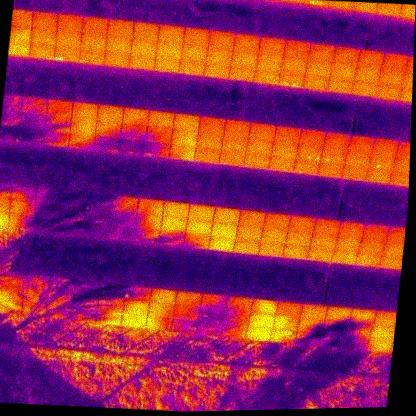Diode: (29, 41, 56, 60), (55, 44, 81, 62)
Hotspot: (368, 151, 396, 171), (179, 57, 206, 76), (375, 82, 403, 100), (348, 135, 375, 153), (278, 71, 305, 89), (205, 60, 232, 78), (293, 159, 320, 176), (296, 146, 323, 163), (272, 141, 299, 158), (79, 48, 106, 65), (341, 165, 368, 181), (321, 149, 348, 165), (271, 328, 298, 344), (376, 3, 403, 16)
Normal: (223, 118, 251, 139), (188, 203, 216, 223), (121, 106, 149, 126), (362, 223, 389, 243), (338, 220, 365, 240), (81, 31, 108, 51), (170, 127, 198, 146), (173, 113, 201, 132), (96, 104, 124, 123), (308, 42, 336, 61), (132, 21, 160, 40), (357, 49, 386, 67), (323, 131, 349, 151), (314, 217, 341, 236), (239, 209, 266, 228), (213, 207, 240, 226), (194, 146, 221, 165), (196, 131, 223, 150), (298, 129, 325, 148), (229, 62, 256, 81), (154, 54, 181, 73), (284, 40, 311, 59), (208, 234, 236, 252), (210, 221, 238, 239), (274, 126, 302, 144), (70, 116, 98, 134), (147, 111, 175, 129), (281, 56, 309, 74), (82, 16, 110, 34), (31, 11, 59, 29), (325, 305, 351, 324), (56, 29, 82, 48), (108, 18, 134, 37), (354, 64, 383, 81), (234, 34, 263, 51), (150, 288, 177, 306), (258, 240, 285, 258), (233, 238, 260, 256), (286, 228, 313, 246), (264, 212, 291, 230), (244, 151, 271, 169), (219, 148, 246, 166), (169, 143, 196, 161), (249, 123, 276, 141), (304, 73, 331, 91), (254, 65, 281, 83), (104, 50, 131, 68), (209, 30, 236, 48), (183, 27, 210, 45), (158, 24, 185, 42), (57, 14, 84, 32), (185, 219, 213, 236), (345, 150, 373, 167), (199, 116, 227, 133), (71, 102, 99, 119), (378, 67, 406, 84), (329, 61, 357, 78), (305, 59, 333, 76), (206, 46, 234, 63), (381, 53, 409, 70), (156, 40, 184, 57), (30, 27, 58, 44), (259, 36, 287, 53), (249, 311, 275, 329), (283, 243, 309, 261), (130, 51, 156, 69), (121, 312, 148, 329), (274, 314, 301, 331), (301, 303, 328, 320), (275, 301, 302, 318), (251, 299, 278, 316), (307, 245, 334, 262), (236, 224, 263, 241), (288, 215, 315, 232), (162, 201, 189, 218), (365, 168, 392, 185), (269, 155, 296, 172), (221, 135, 248, 152), (352, 79, 379, 96), (327, 76, 354, 93), (231, 49, 258, 66), (131, 38, 158, 55), (333, 47, 360, 64), (106, 34, 133, 51), (350, 308, 375, 326), (122, 299, 150, 315), (175, 291, 203, 307), (317, 162, 345, 178), (256, 51, 284, 67), (181, 44, 209, 60), (355, 251, 381, 268), (261, 227, 287, 244), (367, 336, 393, 353), (246, 325, 272, 342), (331, 249, 358, 265), (311, 232, 338, 248), (246, 139, 273, 155), (335, 236, 361, 252), (161, 217, 187, 233), (147, 304, 176, 318), (358, 239, 385, 254), (370, 324, 395, 340), (372, 139, 398, 154), (399, 4, 416, 21)
Shadow: (20, 298, 49, 319), (34, 200, 63, 220), (35, 185, 64, 205), (10, 182, 39, 202), (84, 207, 112, 227), (109, 210, 138, 229), (8, 199, 37, 218), (138, 196, 165, 216), (124, 284, 152, 303), (33, 217, 61, 236), (8, 213, 36, 232), (142, 140, 170, 159), (17, 129, 45, 148), (43, 129, 71, 148), (46, 98, 74, 117), (22, 285, 51, 303), (111, 195, 140, 213), (118, 139, 144, 159), (58, 219, 85, 238), (93, 135, 120, 154), (146, 125, 173, 144), (19, 112, 46, 131), (195, 322, 223, 340), (322, 319, 350, 337), (20, 97, 48, 115), (341, 335, 369, 353), (184, 232, 210, 251), (198, 307, 225, 325), (225, 295, 252, 313), (86, 192, 113, 210), (95, 120, 122, 138), (173, 304, 201, 321), (73, 280, 101, 297), (108, 226, 136, 243), (83, 224, 111, 241), (68, 132, 96, 149), (201, 293, 227, 311), (159, 230, 185, 248), (298, 318, 325, 335), (72, 294, 99, 311), (99, 283, 126, 300), (61, 190, 88, 207), (120, 124, 147, 141), (45, 115, 72, 132), (0, 297, 24, 316), (0, 283, 25, 301), (171, 318, 199, 334), (69, 309, 97, 325), (96, 298, 124, 314), (221, 324, 247, 341), (0, 269, 26, 286), (134, 229, 160, 246), (136, 214, 162, 231), (60, 204, 86, 221), (294, 332, 323, 347), (223, 310, 250, 326), (347, 322, 372, 339), (145, 315, 173, 330), (95, 311, 122, 326), (321, 335, 342, 348)
